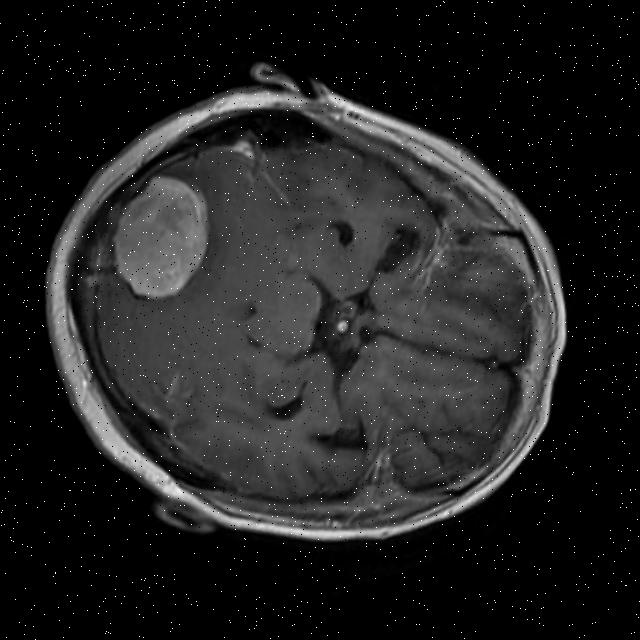Meningioma: (95, 163, 225, 314)
